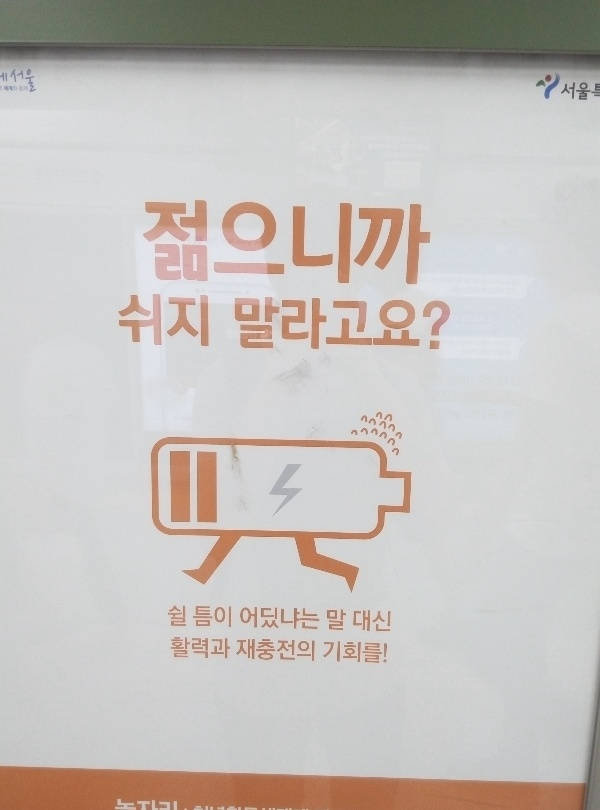text: (145, 203, 160, 285), (161, 203, 176, 285), (177, 203, 192, 285), (193, 203, 208, 285), (209, 203, 224, 285), (225, 203, 240, 285), (241, 203, 256, 285), (257, 203, 272, 285), (273, 203, 288, 285), (289, 203, 304, 285), (305, 203, 320, 285), (321, 203, 336, 285), (337, 203, 352, 285), (353, 203, 368, 285), (369, 203, 384, 285), (385, 203, 400, 285), (401, 203, 416, 285), (417, 203, 432, 285), (177, 453, 192, 524), (193, 453, 208, 524), (241, 296, 256, 354), (257, 296, 272, 354), (273, 296, 288, 354), (289, 296, 304, 354), (305, 296, 320, 354), (321, 296, 336, 354), (337, 296, 352, 354), (353, 296, 368, 354), (369, 296, 384, 354), (385, 296, 400, 354), (401, 296, 416, 354), (417, 296, 432, 354), (433, 296, 448, 354), (129, 294, 144, 347), (145, 294, 160, 347), (161, 294, 176, 347), (177, 294, 192, 347), (193, 294, 208, 347), (209, 453, 218, 524), (170, 453, 176, 524), (120, 294, 128, 347), (17, 69, 32, 95), (241, 638, 256, 664), (257, 638, 272, 664), (273, 638, 288, 664), (289, 638, 304, 664), (241, 607, 256, 631), (257, 607, 272, 631), (273, 607, 288, 631), (289, 607, 304, 631), (305, 607, 320, 631), (209, 607, 224, 630), (337, 641, 352, 664), (353, 641, 368, 664), (369, 641, 384, 664), (369, 612, 384, 634), (177, 637, 192, 658), (193, 637, 208, 658), (209, 637, 224, 658), (354, 612, 368, 634), (195, 607, 208, 630), (235, 296, 240, 354), (577, 83, 591, 103), (324, 641, 336, 664), (563, 83, 576, 103), (305, 638, 315, 664), (129, 796, 144, 810), (145, 796, 160, 810), (161, 796, 176, 810), (177, 796, 192, 810), (193, 796, 208, 810), (209, 796, 224, 810), (225, 796, 240, 810), (241, 796, 256, 810), (257, 796, 272, 810), (273, 796, 288, 810), (289, 796, 304, 810), (305, 796, 320, 810), (327, 610, 336, 633), (337, 610, 346, 633), (177, 606, 186, 627), (449, 296, 452, 354), (142, 203, 144, 285), (225, 607, 232, 630), (10, 69, 16, 95), (117, 796, 128, 810), (169, 606, 176, 627), (1, 73, 16, 82), (385, 612, 391, 634), (225, 637, 231, 658), (593, 83, 600, 98), (172, 637, 176, 658), (33, 69, 36, 95), (4, 86, 16, 92), (321, 796, 326, 810), (20, 86, 32, 91), (209, 294, 210, 347), (238, 638, 240, 664), (385, 641, 387, 664), (17, 86, 18, 92)
